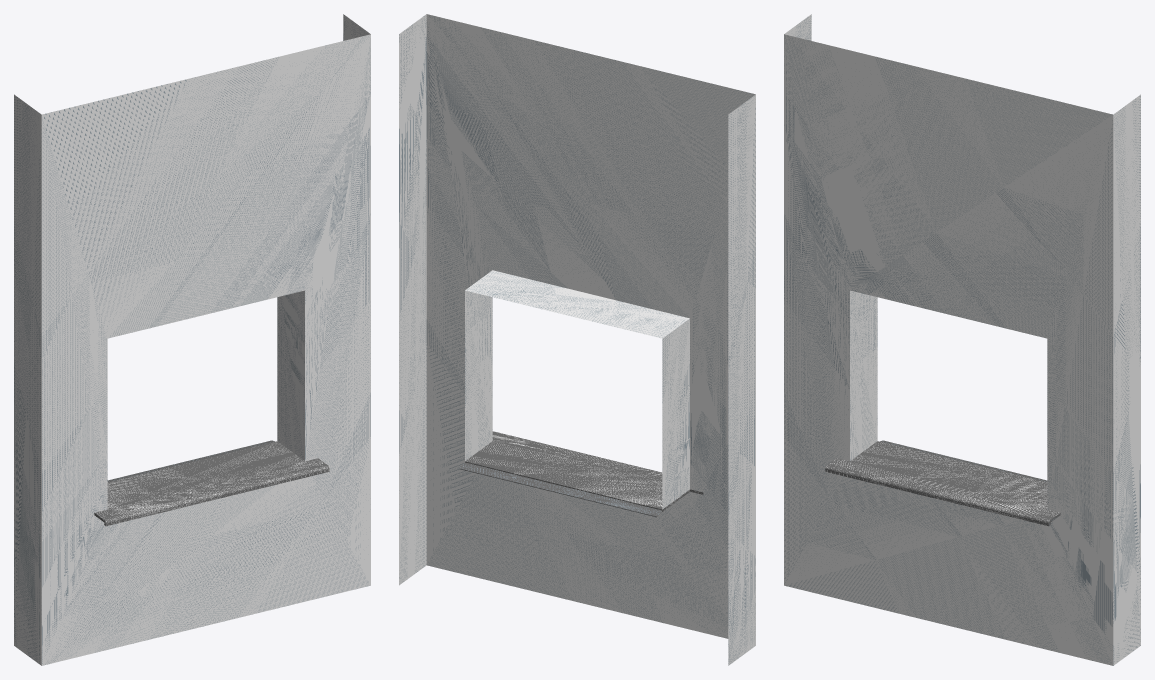
The model's file is WindowBlock_os_[250x400]_150x124x[100].dae.
3 views of the same model, side by side, from view 1: azimuth 30°, elevation 25°; view 2: azimuth 150°, elevation 25°; view 3: azimuth 330°, elevation 25° (orthographic).
Parts seen in each view (by area): view 1: group_2 (×2), group_1; view 2: group_2 (×2), group_1 (×2); view 3: group_2 (×2), group_1.
Part boxes in pixels (x1=…): group_2 (×2): x1=14, y1=14, x2=370, y2=665; group_1: x1=94, y1=441, x2=329, y2=526; group_2 (×2): x1=399, y1=14, x2=755, y2=665; group_1 (×2): x1=459, y1=431, x2=703, y2=517; group_2 (×2): x1=784, y1=14, x2=1140, y2=665; group_1: x1=825, y1=441, x2=1060, y2=526.
Size of the model in its own units: 98.43 by 23.03 by 157.
